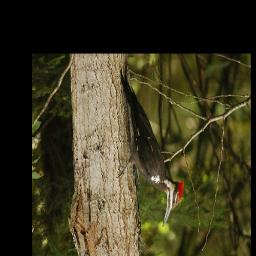Woodpecker: (114, 64, 186, 228)
